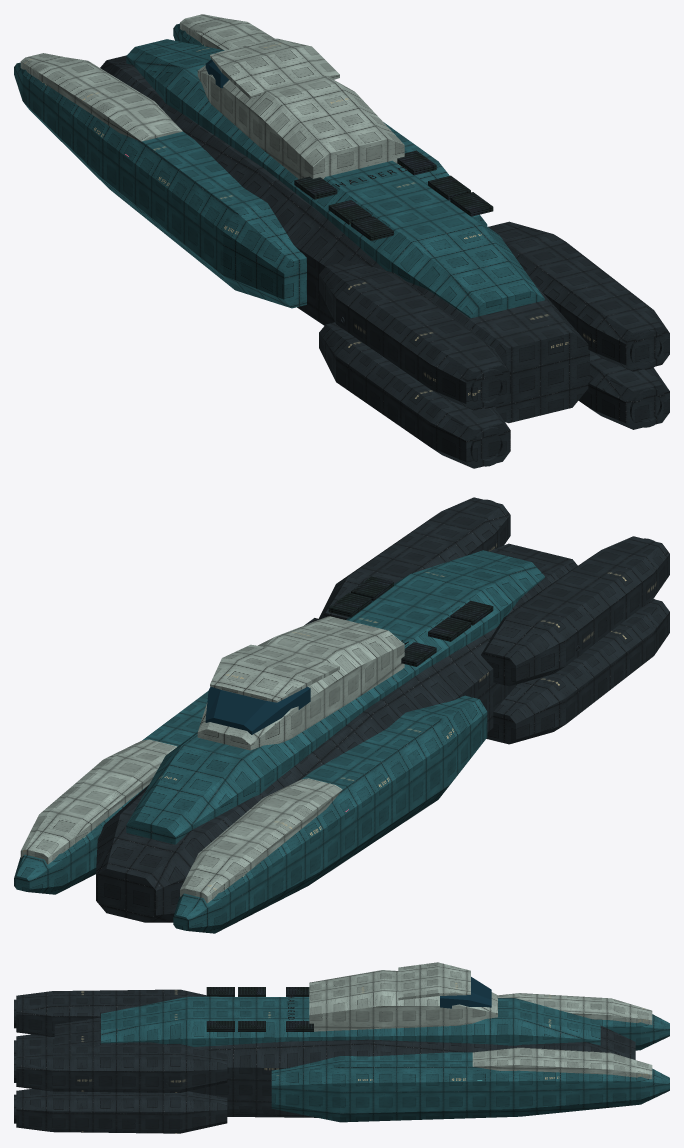
File: ship_halberd.glb
3 views of the same model, one above another, from view 1: azimuth 30°, elevation 25°; view 2: azimuth 150°, elevation 25°; view 3: azimuth 270°, elevation 25° (orthographic). The views are drawn at different scales.
Parts seen in each view (by area): view 1: Frame, Teal, Cream, Thermal; view 2: Teal, Frame, Cream, Thermal, Glass; view 3: Teal, Frame, Cream, Thermal, Glass.
Part boxes in pixels (bbox=[...]): Frame: bbox=[100, 55, 669, 468]; Teal: bbox=[14, 23, 544, 318]; Cream: bbox=[20, 14, 404, 178]; Thermal: bbox=[294, 150, 493, 240]; Teal: bbox=[14, 550, 544, 933]; Frame: bbox=[96, 497, 669, 922]; Cream: bbox=[20, 616, 404, 903]; Thermal: bbox=[304, 576, 493, 666]; Glass: bbox=[205, 686, 310, 734]; Teal: bbox=[101, 996, 669, 1122]; Frame: bbox=[14, 989, 635, 1133]; Cream: bbox=[309, 962, 652, 1079]; Thermal: bbox=[206, 987, 313, 1031]; Glass: bbox=[440, 977, 491, 1008].
Size of the model in its own units: 12.78 by 9.16 by 43.86.
8 materials, 6 textured.
